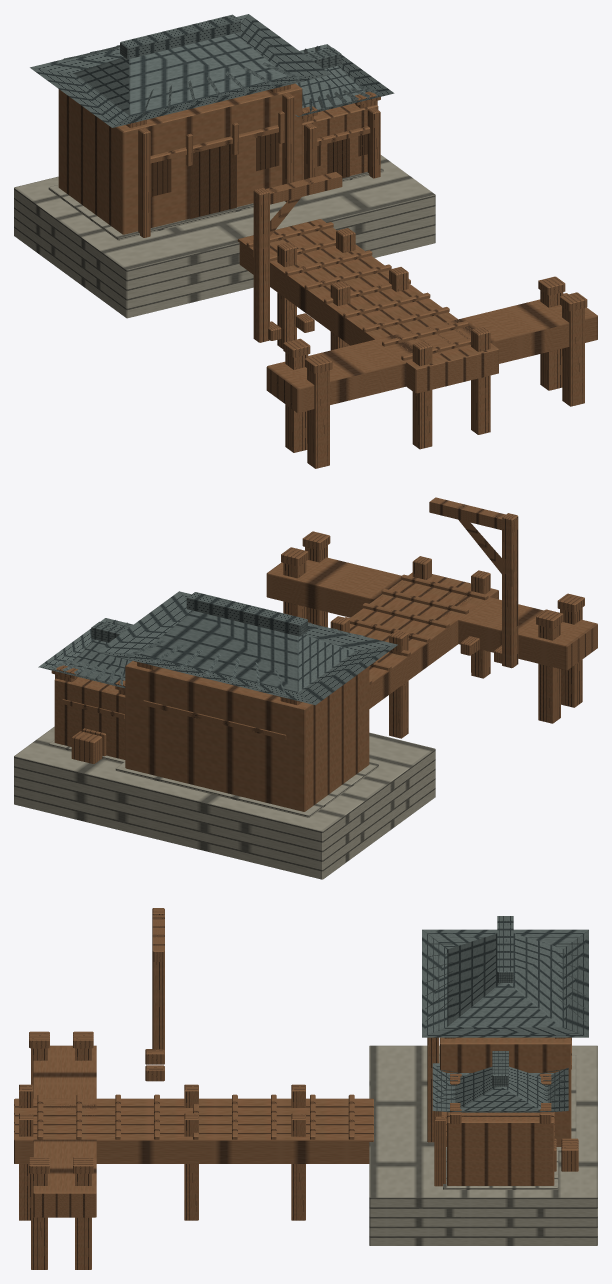
The model's file is port-lod0.glb.
The picture shows the model from 3 angles, top to bottom: view 1: azimuth 30°, elevation 25°; view 2: azimuth 150°, elevation 25°; view 3: azimuth 270°, elevation 25°; orthographic projection.
Size of the model in its own units: 0.74 by 0.551 by 1.2.
Materials: 1 (1 with a texture image).
